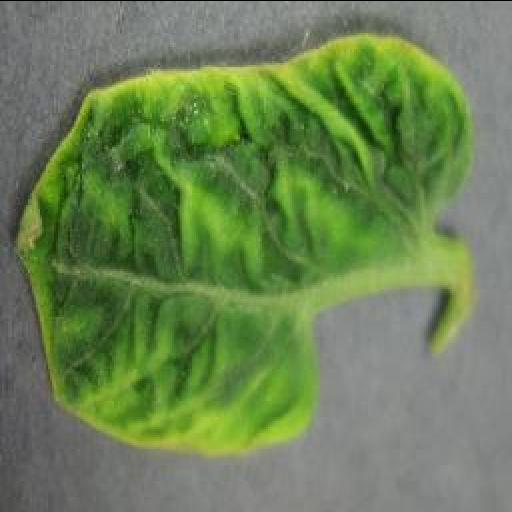disease_tomato: (14, 35, 476, 461)
